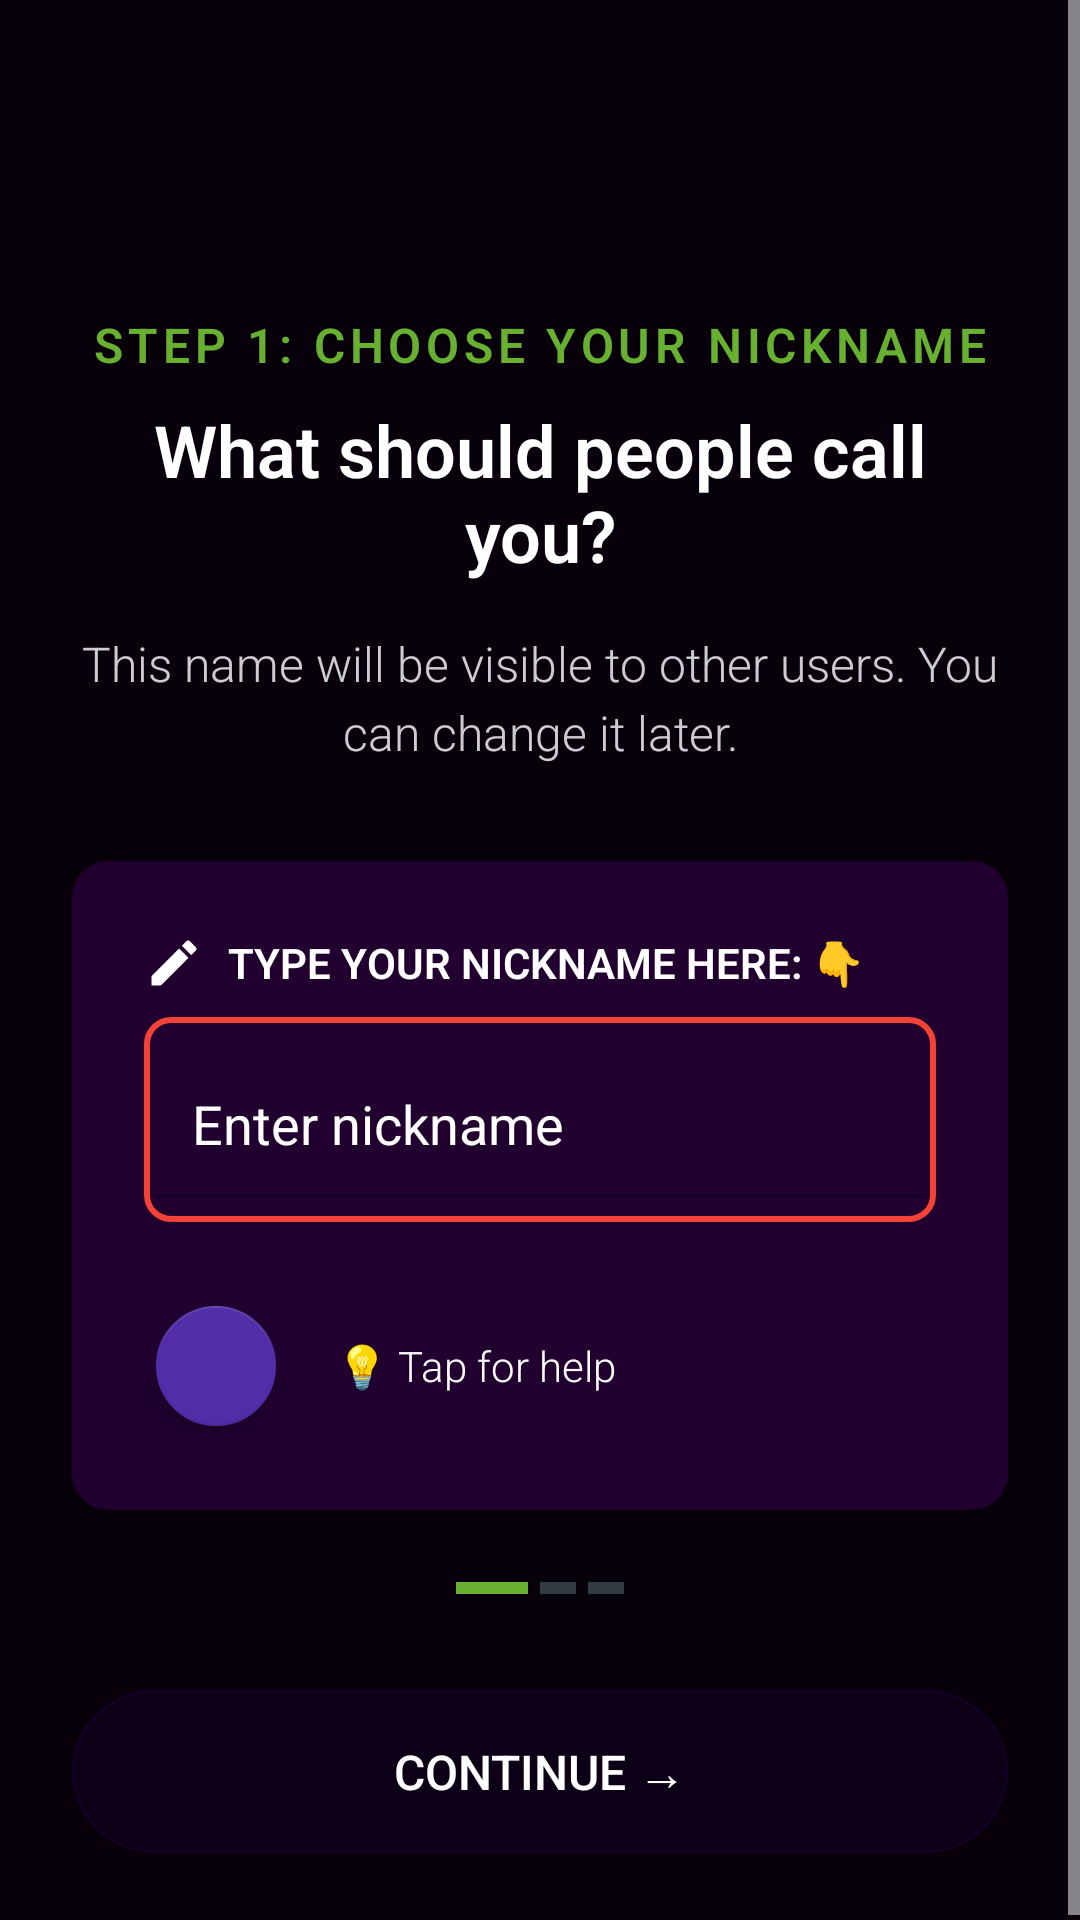

Where to tap for icons on this 1080*1920 app screen, as point (x, y):
edit: point (174, 963)
